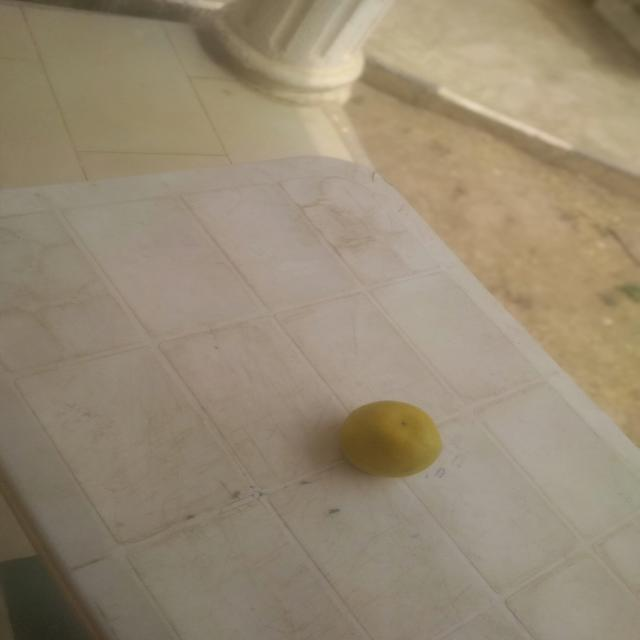Ripe orange: (314, 392, 462, 486)
